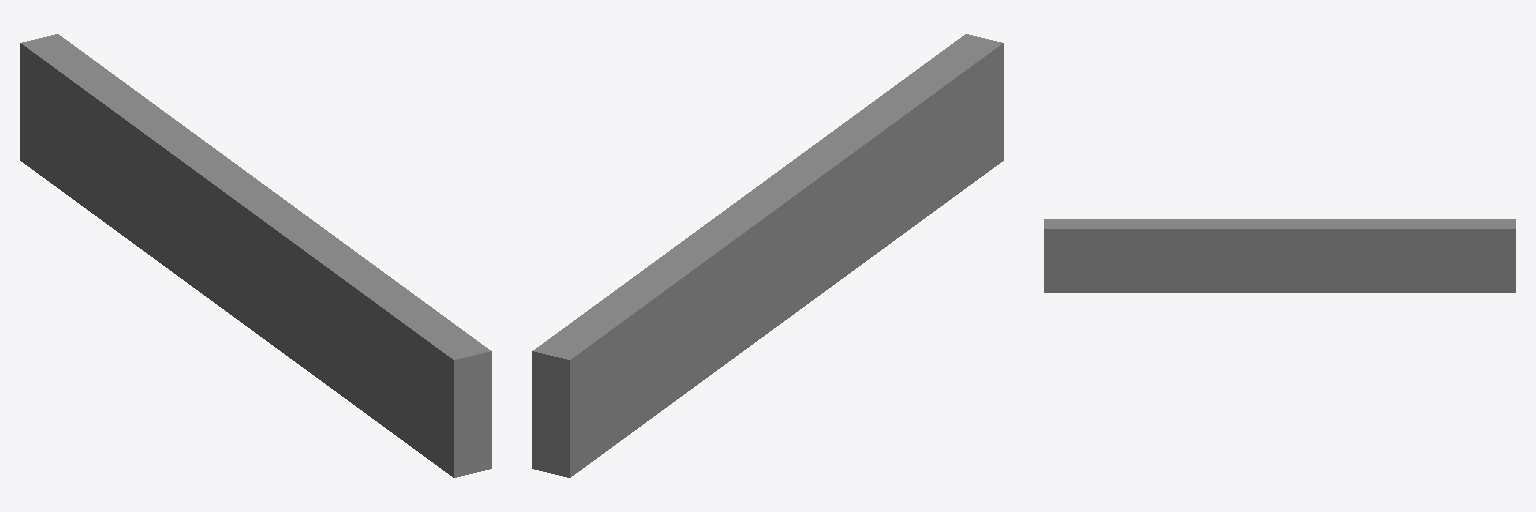
URDF robot description (wall_01):
<robot name="wall_01">
  <material name="paint"><color rgba="0.6 0.6 0.6 1" /></material>
  <link name="base">
    <inertial><origin xyz="0 0 0" rpy="0 0 0" /><mass value="2" /><inertia ixx="0.01" ixy="0" ixz="0" iyy="0.01" iyz="0" izz="0.01" /></inertial>
    <visual name="wall"><origin xyz="0 0 0.03" rpy="0 0 0" /><geometry><box size="0.02 0.4 0.06" /></geometry><material name="paint" /></visual>
    <collision name="wall"><origin xyz="0 0 0.03" rpy="0 0 0" /><geometry><box size="0.02 0.4 0.06" /></geometry></collision>
  </link>
</robot>

--- Render facts (derived) ---
The picture shows the robot from 3 angles, left to right: view 1: azimuth 30°, elevation 25°; view 2: azimuth 150°, elevation 25°; view 3: azimuth 270°, elevation 25°; orthographic projection.
Robot: wall_01 — 1 links, 0 joints (none); root link base; default pose: all joints at 0.
Links seen in each view (by area): view 1: base; view 2: base; view 3: base.
Boxes of the visible links, x1,y1,x2,y2 form: base: (20, 34, 491, 477); base: (532, 34, 1003, 477); base: (1044, 219, 1515, 292).
Bounding box of the posed robot: 0.02 × 0.4 × 0.06 m (x, y, z).
Geometry: primitives only (box / cylinder / sphere), no mesh files.
